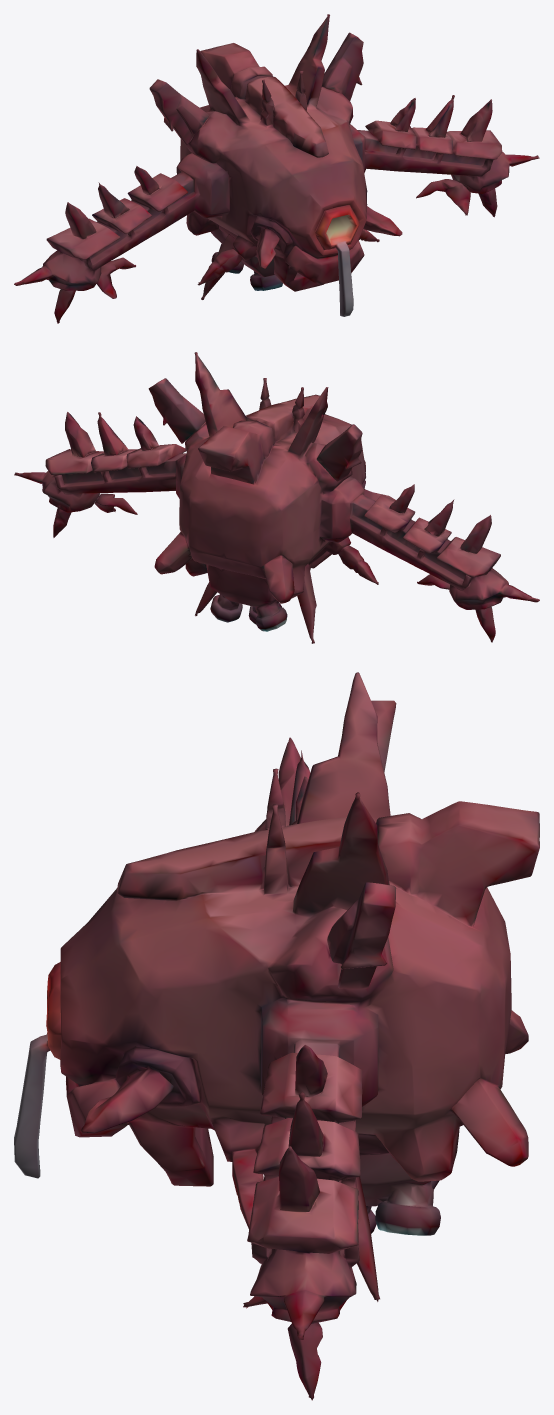
File: Enemy.glb
3 renders of one model, top to bottom at view 1: azimuth 30°, elevation 25°; view 2: azimuth 150°, elevation 25°; view 3: azimuth 270°, elevation 25°, orthographic. The views are drawn at different scales.
Visible parts, largest first — view 1: geometry_0; view 2: geometry_0; view 3: geometry_0.
Part boxes in pixels (x1,y1,x2,y2): geometry_0: (14,14,539,323); geometry_0: (14,352,539,643); geometry_0: (14,672,539,1400).
Bounding box in the file's own units: 0.9849 × 0.465 × 0.4318.
